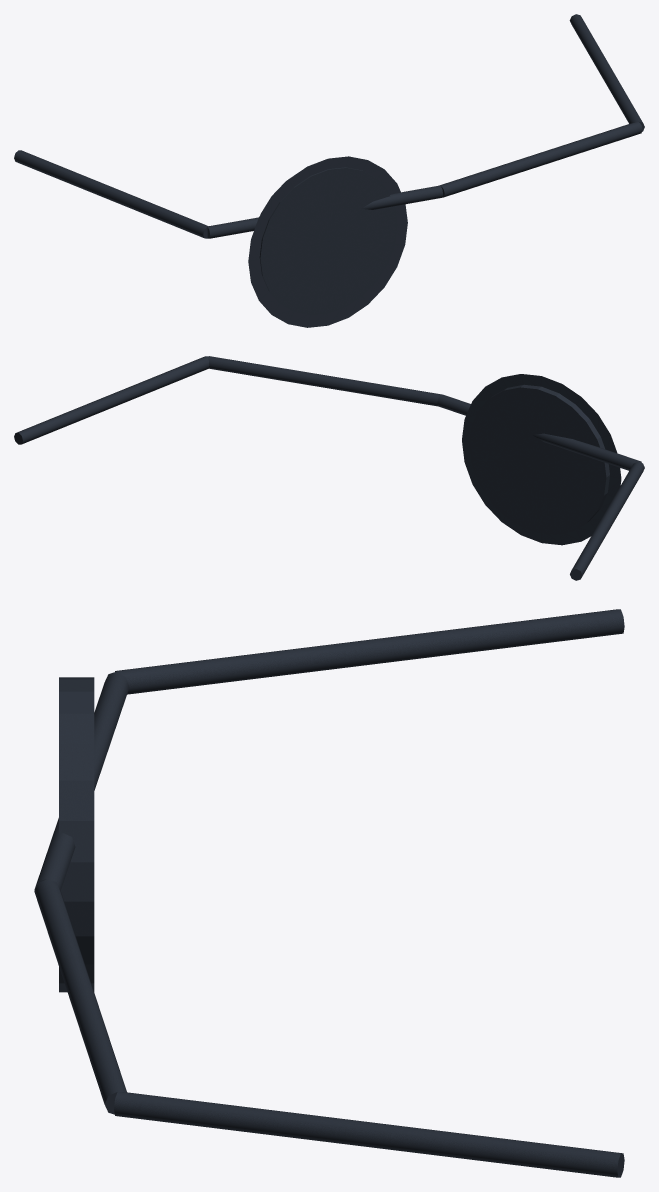
The model's file is reference_eye_patch.gltf.
3 renders of one model, top to bottom at view 1: azimuth 30°, elevation 25°; view 2: azimuth 150°, elevation 25°; view 3: azimuth 270°, elevation 25°, orthographic. The views are drawn at different scales.
Visible parts, largest first — view 1: Eye Patch; view 2: Eye Patch; view 3: Eye Patch.
Boxes of the visible parts, <box> form: Eye Patch: <box>14,14,644,327</box>; Eye Patch: <box>14,356,644,580</box>; Eye Patch: <box>34,609,624,1177</box>.
Size of the model in its own units: 0.4486 by 0.126 by 0.2017.
Materials: 1 (1 with a texture image).
